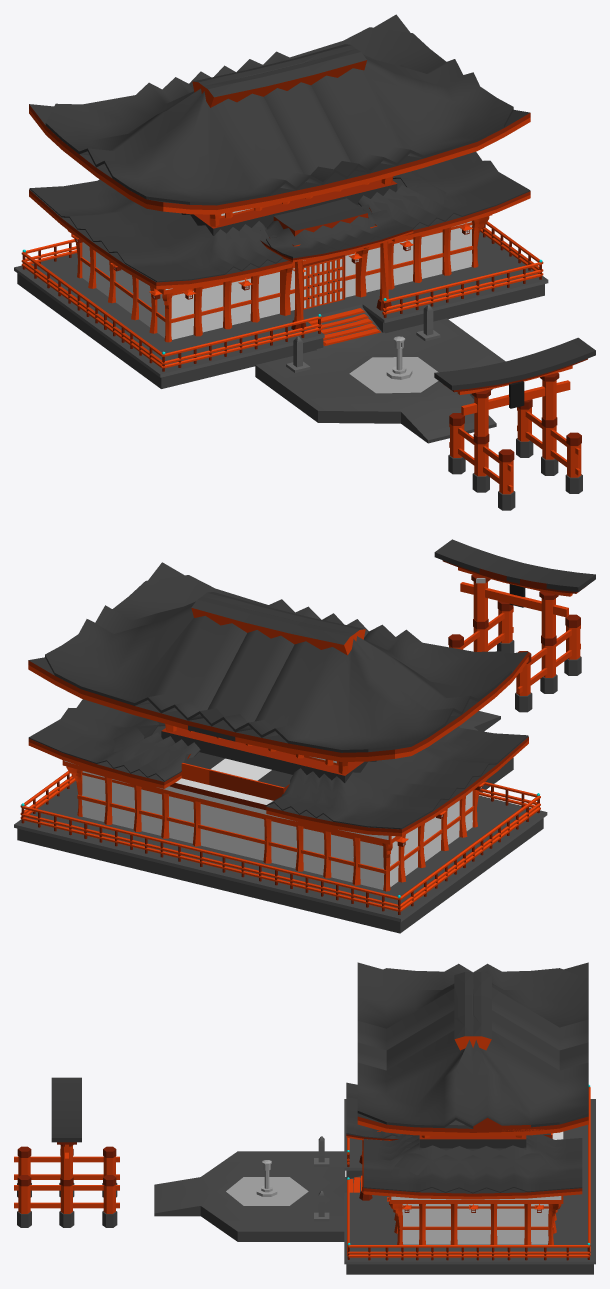
File: templo_3.fbx
3 views of the same model, one above another, from view 1: azimuth 30°, elevation 25°; view 2: azimuth 150°, elevation 25°; view 3: azimuth 270°, elevation 25° (orthographic). The views are drawn at different scales.
Parts seen in each view (by area): view 1: pasted__polySurface64, pasted__pCube9, pasted__polySurface221, pasted__polySurface341, pasted__polySurface57, pasted__polySurface63, pasted__polySurface1, pasted__pasted__polySurface772, pasted__polySurface62, pasted__polySurface721, pasted__polySurface66, pasted__pCube3 (+6 smaller); view 2: pasted__polySurface64, pasted__polySurface1, pasted__pCube9, pasted__polySurface57, pasted__polySurface63, pasted__polySurface341, pasted__pasted__polySurface772, pasted__polySurface62, pasted__polySurface721, pasted__pCube3, pasted__polySurface56, pasted__pCube8 (+2 smaller); view 3: pasted__polySurface64, pasted__polySurface221, pasted__pCube9, pasted__polySurface62, pasted__polySurface341, pasted__polySurface1, pasted__polySurface63, pasted__pCube8, pasted__pasted__polySurface772, pasted__polySurface721, pasted__pCube3, pasted__polySurface66 (+1 smaller).
Boxes of the visible parts, bbox=[...] form: pasted__polySurface64: bbox=[45, 27, 513, 205]; pasted__pCube9: bbox=[14, 231, 548, 388]; pasted__polySurface221: bbox=[255, 307, 505, 443]; pasted__polySurface341: bbox=[434, 337, 595, 510]; pasted__polySurface57: bbox=[29, 179, 282, 282]; pasted__polySurface63: bbox=[29, 14, 530, 214]; pasted__polySurface1: bbox=[77, 205, 492, 339]; pasted__pasted__polySurface772: bbox=[21, 221, 543, 368]; pasted__polySurface62: bbox=[358, 151, 530, 228]; pasted__polySurface721: bbox=[67, 176, 489, 342]; pasted__polySurface66: bbox=[260, 202, 412, 258]; pasted__pCube3: bbox=[181, 179, 397, 235]; pasted__polySurface64: bbox=[45, 575, 511, 752]; pasted__polySurface1: bbox=[62, 752, 474, 889]; pasted__pCube9: bbox=[14, 781, 547, 933]; pasted__polySurface57: bbox=[265, 726, 528, 829]; pasted__polySurface63: bbox=[28, 562, 528, 761]; pasted__polySurface341: bbox=[434, 539, 595, 712]; pasted__pasted__polySurface772: bbox=[20, 771, 540, 911]; pasted__polySurface62: bbox=[28, 699, 200, 781]; pasted__polySurface721: bbox=[66, 724, 486, 891]; pasted__pCube3: bbox=[161, 727, 376, 782]; pasted__polySurface56: bbox=[266, 736, 528, 836]; pasted__pCube8: bbox=[28, 718, 191, 788]; pasted__polySurface64: bbox=[357, 963, 588, 1135]; pasted__polySurface221: bbox=[154, 1151, 360, 1241]; pasted__pCube9: bbox=[344, 1099, 595, 1274]; pasted__polySurface62: bbox=[363, 1134, 582, 1193]; pasted__polySurface341: bbox=[14, 1077, 119, 1227]; pasted__polySurface1: bbox=[389, 1131, 563, 1244]; pasted__polySurface63: bbox=[357, 962, 588, 1136]; pasted__pCube8: bbox=[363, 1134, 582, 1199]; pasted__pasted__polySurface772: bbox=[347, 1087, 590, 1257]; pasted__polySurface721: bbox=[377, 1131, 561, 1244]; pasted__pCube3: bbox=[419, 1135, 526, 1148]; pasted__polySurface66: bbox=[346, 1082, 400, 1138].
Bounding box in the file's own units: 25.28 × 15 × 38.22.
